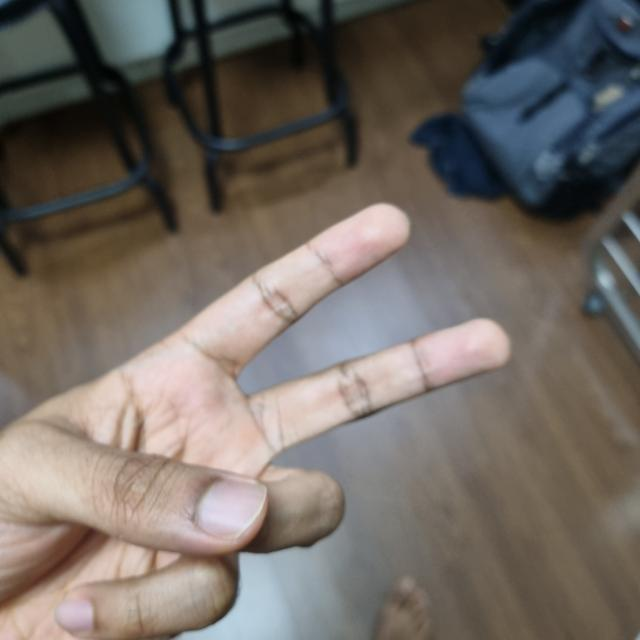Scissors: (0, 208, 503, 639)
